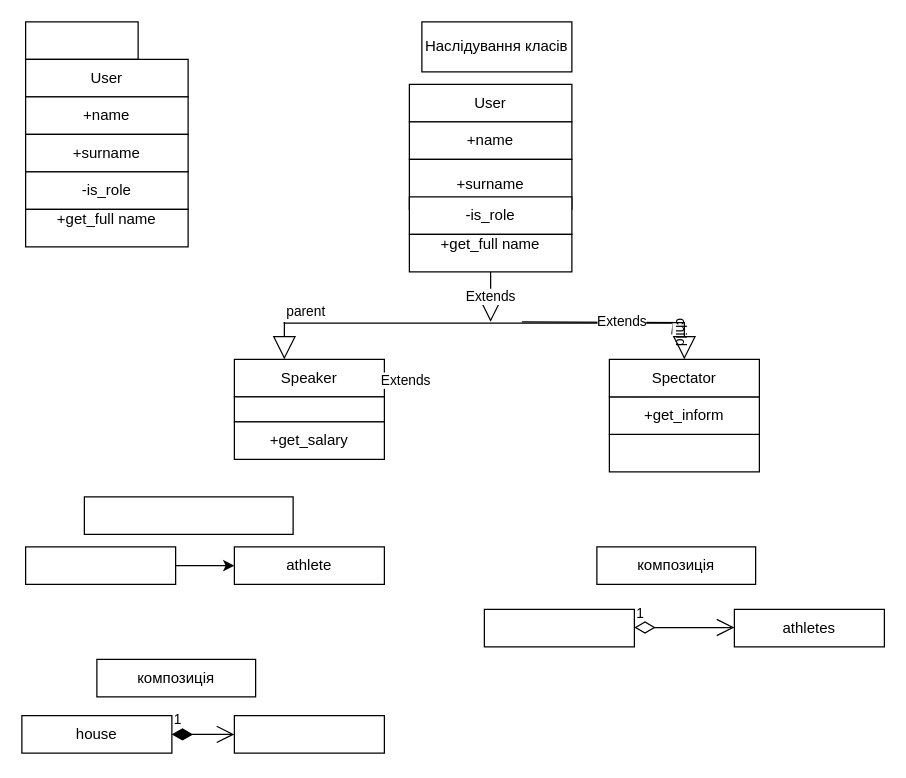
The diagram is 906 pixels wide and 778 high, and some of its shapes have lost their labels. Here are the shapes that lost their labels. From the top down, the centre of each, then its label:
the point at 81,40: UML-діаграма
the point at 308,409: +gives_inform
the point at 683,452: -get_experience
the point at 188,515: відношення між об'єктами
the point at 100,565: trainer
the point at 558,627: gym
the point at 308,733: apartment
